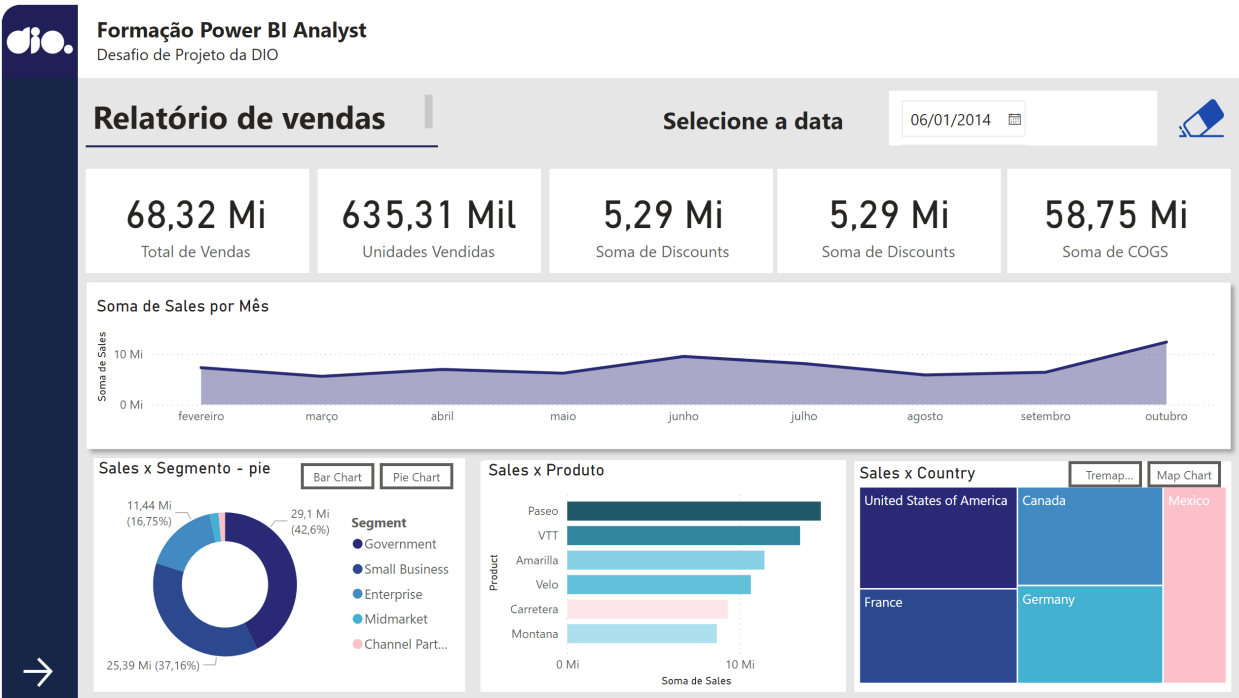

The page's visual inventory and layout, read from the dashboard file:
{"tool":"powerbi","page":{"name":"Página 1","canvas":[1280,720],"ordinal":0},"visuals":[{"type":"shape","box":[10,12.8,1270,707],"z":0},{"type":"slicer","fields":{"Values":["financials.Date"]},"box":[909.4,99.8,272.2,55.6],"z":0,"group":"g2"},{"type":"shape","box":[95.3,139.9,357,32.5],"z":0,"group":"g5"},{"type":"shape","box":[95.5,179.2,226.5,105.7],"z":0,"group":"g1"},{"type":"donutChart","title":"Sales x Segmento - pie","fields":{"Y":["Sum(financials. Sales)"],"Category":["financials.Segment"]},"box":[102.6,471.8,376.3,236.6],"z":0,"group":"g4"},{"type":"map","title":"Sales x Country","fields":{"Category":["financials.Country"],"Size":["Sum(financials. Sales)"]},"box":[873.8,476,382,228.1],"z":0,"group":"g3"},{"type":"actionButton","title":"Botão - bar","box":[312.8,476.4,74.5,26.6],"z":500,"group":"g4"},{"type":"actionButton","title":"Botão -pie","box":[392.6,476.4,74.5,26.6],"z":750,"group":"g4"},{"type":"shape","box":[10.1,13.4,77.2,706.3],"z":1000},{"type":"textbox","box":[97.6,98.9,354.6,48.1],"z":1000,"group":"g5"},{"type":"textbox","box":[675,107.3,227.9,44.6],"z":1000,"group":"g2"},{"type":"shape","box":[330.2,179.2,226.5,105.7],"z":1000,"group":"g1"},{"type":"treemap","title":"Sales x Country","fields":{"Group":["financials.Country"],"Values":["Sum(financials. Sales)"]},"box":[873.8,477.5,382,228.1],"z":1000,"group":"g3"},{"type":"actionButton","title":"Botão - map","box":[1170.8,475.2,74.5,26.6],"z":1250,"group":"g3"},{"type":"actionButton","title":"Botão - tremap","box":[1090.9,475.2,74.5,26.6],"z":1500,"group":"g3"},{"type":"shape","box":[10.1,13.4,77.2,73.8],"z":2000},{"type":"actionButton","box":[1195.9,104.1,59.9,51.3],"z":2000,"group":"g2"},{"type":"shape","box":[565.1,179.2,226.5,105.7],"z":2000,"group":"g1"},{"type":"image","title":"logo_dio","box":[10.1,18.5,77.2,62.1],"z":3000},{"type":"image","title":"clean","box":[1195.9,99.8,59.9,55.6],"z":3000,"group":"g2"},{"type":"shape","box":[796.6,179.2,226.5,105.7],"z":3000,"group":"g1"},{"type":"shape","box":[86.9,12.8,1193.1,74.1],"z":4000},{"type":"shape","box":[1029.7,179.2,226.5,105.7],"z":4000,"group":"g1"},{"type":"textbox","box":[100.7,18.5,365.7,68.8],"z":5000},{"type":"card","fields":{"Values":["Sum(financials. Sales)"]},"box":[101.2,179.6,211,105.5],"z":5000,"group":"g1"},{"type":"group","id":"g1","title":"Cartões","box":[95.5,179.2,1160.7,105.9],"z":6000},{"type":"card","fields":{"Values":["Sum(financials.Units Sold)"]},"box":[337.9,179.6,211,105.5],"z":6000,"group":"g1"},{"type":"card","fields":{"Values":["Sum(financials.Discounts)"]},"box":[804,179.6,211,105.5],"z":7000,"group":"g1"},{"type":"shape","box":[86.9,285.1,1177.4,186.7],"z":7000},{"type":"card","fields":{"Values":["Sum(financials.Discounts)"]},"box":[574.5,179.6,211,105.5],"z":8000,"group":"g1"},{"type":"shape","box":[494.6,474.7,370.6,233.8],"z":8000},{"type":"card","fields":{"Values":["Sum(financials.COGS)"]},"box":[1033.4,179.6,211,105.5],"z":9000,"group":"g1"},{"type":"shape","box":[873.8,474.7,382,233.8],"z":9000},{"type":"areaChart","fields":{"Category":["financials.Date.Variation.Hierarquia de datas.Mês"],"Y":["Sum(financials. Sales)"]},"box":[101.2,307.9,1143.2,139.7],"z":10000},{"type":"clusteredBarChart","title":"Sales x Produto","fields":{"Y":["Sum(financials. Sales)"],"Category":["financials.Product"]},"box":[498.3,474.5,366.9,233.8],"z":11000},{"type":"group","id":"g2","title":"Filtro por data","box":[675,99.8,580.7,55.6],"z":12000},{"type":"group","id":"g3","title":"Sales x país","box":[873.8,475.2,382,230.3],"z":13000},{"type":"group","id":"g4","title":"Sales x Segmento","box":[96,471.8,382.9,236.8],"z":14000},{"type":"group","id":"g5","title":"Title report","box":[95.3,98.9,357,73.6],"z":15000},{"type":"actionButton","box":[25.9,669,48.8,39.6],"z":16000}]}

Visuals, with their boxes in screenshot pixels (x1, y1, x2, y2), scaled from the page's 1280x720 canvas onto the 1239x698 screenshot:
shape: (x1=10, y1=12, x2=1238, y2=697)
slicer - financials.Date: (x1=880, y1=97, x2=1144, y2=151)
shape: (x1=92, y1=136, x2=438, y2=167)
shape: (x1=92, y1=174, x2=312, y2=276)
"Sales x Segmento - pie" donutChart: (x1=99, y1=457, x2=464, y2=687)
"Sales x Country" map: (x1=846, y1=461, x2=1216, y2=683)
"Botão - bar" actionButton: (x1=303, y1=462, x2=375, y2=488)
"Botão -pie" actionButton: (x1=380, y1=462, x2=452, y2=488)
shape: (x1=10, y1=13, x2=85, y2=697)
textbox: (x1=94, y1=96, x2=438, y2=143)
textbox: (x1=653, y1=104, x2=874, y2=147)
shape: (x1=320, y1=174, x2=539, y2=276)
"Sales x Country" treemap: (x1=846, y1=463, x2=1216, y2=684)
"Botão - map" actionButton: (x1=1133, y1=461, x2=1205, y2=486)
"Botão - tremap" actionButton: (x1=1056, y1=461, x2=1128, y2=486)
shape: (x1=10, y1=13, x2=85, y2=85)
actionButton: (x1=1158, y1=101, x2=1216, y2=151)
shape: (x1=547, y1=174, x2=766, y2=276)
"logo_dio" image: (x1=10, y1=18, x2=85, y2=78)
"clean" image: (x1=1158, y1=97, x2=1216, y2=151)
shape: (x1=771, y1=174, x2=990, y2=276)
shape: (x1=84, y1=12, x2=1238, y2=84)
shape: (x1=997, y1=174, x2=1216, y2=276)
textbox: (x1=97, y1=18, x2=451, y2=85)
card - Sum(financials. Sales): (x1=98, y1=174, x2=302, y2=276)
"Cartões" group: (x1=92, y1=174, x2=1216, y2=276)
card - Sum(financials.Units Sold): (x1=327, y1=174, x2=531, y2=276)
card - Sum(financials.Discounts): (x1=778, y1=174, x2=982, y2=276)
shape: (x1=84, y1=276, x2=1224, y2=457)
card - Sum(financials.Discounts): (x1=556, y1=174, x2=760, y2=276)
shape: (x1=479, y1=460, x2=837, y2=687)
card - Sum(financials.COGS): (x1=1000, y1=174, x2=1205, y2=276)
shape: (x1=846, y1=460, x2=1216, y2=687)
areaChart - financials.Date.Variation.Hierarquia de datas.Mês x Sum(financials. Sales): (x1=98, y1=298, x2=1205, y2=434)
"Sales x Produto" clusteredBarChart: (x1=482, y1=460, x2=837, y2=687)
"Filtro por data" group: (x1=653, y1=97, x2=1215, y2=151)
"Sales x país" group: (x1=846, y1=461, x2=1216, y2=684)
"Sales x Segmento" group: (x1=93, y1=457, x2=464, y2=687)
"Title report" group: (x1=92, y1=96, x2=438, y2=167)
actionButton: (x1=25, y1=649, x2=72, y2=687)
